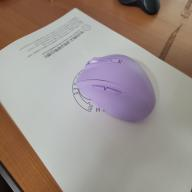mouse: (78, 54, 155, 124), (119, 0, 161, 15)
